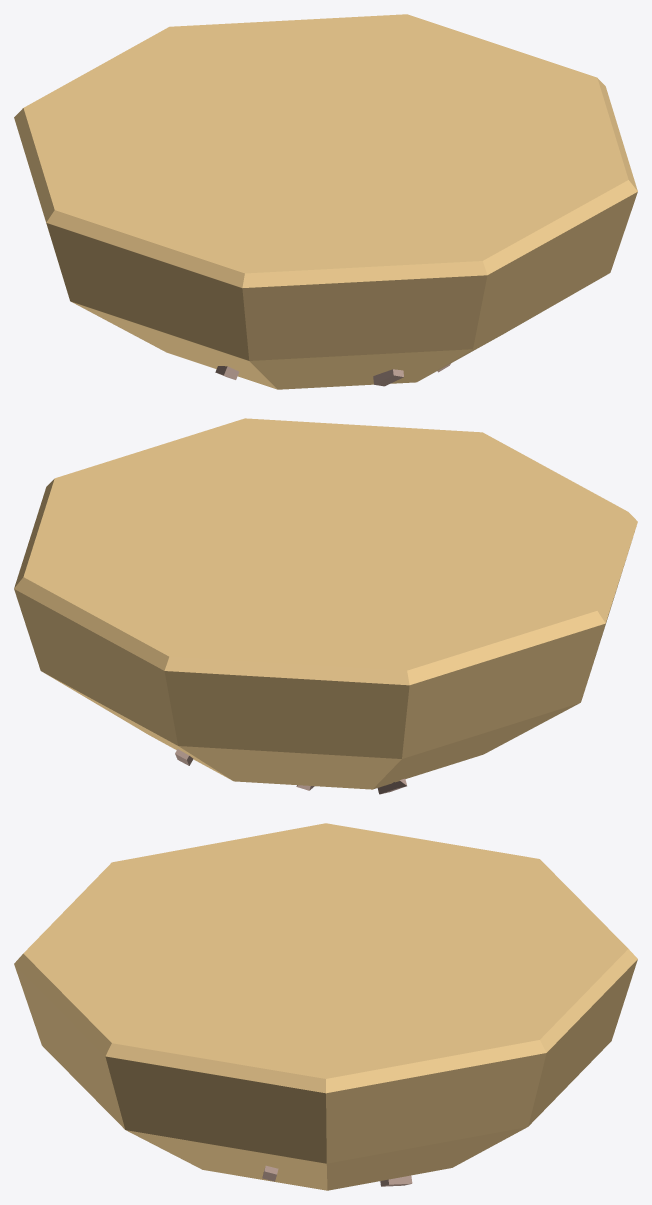
File: topBun.glb
3 renders of one model, top to bottom at view 1: azimuth 30°, elevation 25°; view 2: azimuth 150°, elevation 25°; view 3: azimuth 270°, elevation 25°, orthographic. The views are drawn at different scales.
Parts seen in each view (by area): view 1: buffer_0_mesh_0_prim3.289; view 2: buffer_0_mesh_0_prim3.289; view 3: buffer_0_mesh_0_prim3.289.
Part boxes in pixels (left/top/right/bottom): buffer_0_mesh_0_prim3.289: left=14, top=14, right=637, bottom=389; buffer_0_mesh_0_prim3.289: left=14, top=418, right=637, bottom=794; buffer_0_mesh_0_prim3.289: left=14, top=823, right=637, bottom=1190.
Size of the model in its own units: 1.2 by 0.4406 by 1.2.
